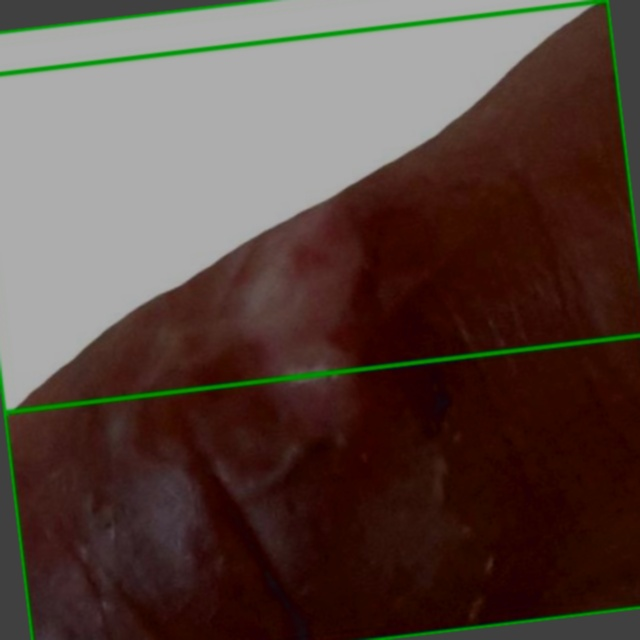Contact Dermatitis: (0, 0, 639, 639), (0, 0, 639, 412)
